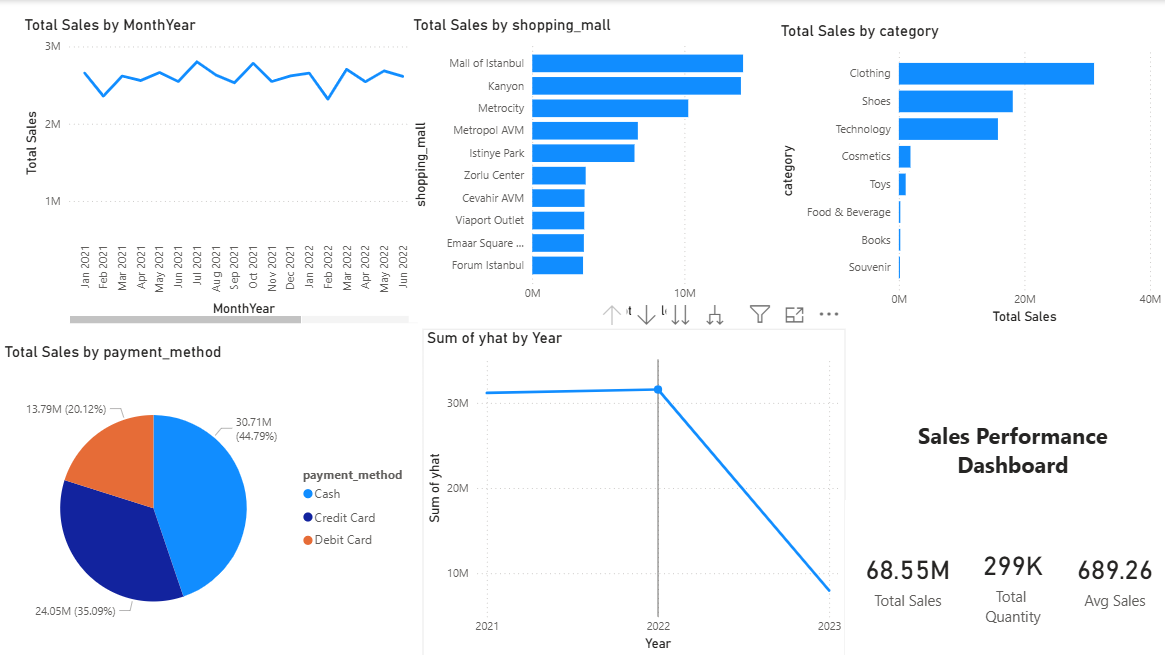

What the dashboard file says about the page in this screenshot:
{"tool":"powerbi","page":{"name":"Page 1","canvas":[1280,720],"ordinal":0},"visuals":[{"type":"lineChart","fields":{"Y":["clean_sales_data.Total Sales"],"Category":["clean_sales_data.MonthYear"]},"box":[21.4,17.1,441.9,343.5],"z":0},{"type":"clusteredBarChart","fields":{"Y":["clean_sales_data.Total Sales"],"Category":["clean_sales_data.category"]},"box":[852.4,22.8,427.6,337.8],"z":1},{"type":"clusteredBarChart","fields":{"Category":["clean_sales_data.shopping_mall"],"Y":["clean_sales_data.Total Sales"]},"box":[449,17.1,403.4,337.8],"z":2},{"type":"pieChart","fields":{"Category":["clean_sales_data.payment_method"],"Y":["clean_sales_data.Total Sales"]},"box":[0,376.3,463.3,343.5],"z":3},{"type":"lineChart","fields":{"Category":["sales_forecast.ds.Variation.Date Hierarchy.Year","sales_forecast.ds.Variation.Date Hierarchy.Quarter","sales_forecast.ds.Variation.Date Hierarchy.Month","sales_forecast.ds.Variation.Date Hierarchy.Day"],"Y":["Sum(sales_forecast.yhat)"]},"box":[463.3,360.6,464.7,359.2],"z":4},{"type":"card","fields":{"Values":["clean_sales_data.Total Sales"]},"box":[927.9,548.8,138.3,171],"z":5},{"type":"card","fields":{"Values":["clean_sales_data.Avg Sales"]},"box":[1167.4,548.8,112.6,171],"z":6},{"type":"card","fields":{"Values":["clean_sales_data.Total Quantity"]},"box":[1056.2,540.2,111.2,179.6],"z":7},{"type":"textbox","box":[956.4,457.6,310.7,91.2],"z":8}]}

Visuals, with their boxes in screenshot pixels (x1, y1, x2, y2), scaled from the page's 1280x720 canvas onto the 1165x655 screenshot:
lineChart - clean_sales_data.Total Sales x clean_sales_data.MonthYear: 19/16/422/328
clusteredBarChart - clean_sales_data.Total Sales x clean_sales_data.category: 776/21/1164/328
clusteredBarChart - clean_sales_data.shopping_mall x clean_sales_data.Total Sales: 409/16/776/323
pieChart - clean_sales_data.payment_method x clean_sales_data.Total Sales: 0/342/422/654
lineChart - sales_forecast.ds.Variation.Date Hierarchy.Year x sales_forecast.ds.Variation.Date Hierarchy.Quarter: 422/328/845/654
card - clean_sales_data.Total Sales: 845/499/970/654
card - clean_sales_data.Avg Sales: 1063/499/1164/654
card - clean_sales_data.Total Quantity: 961/491/1063/654
textbox: 870/416/1153/499
